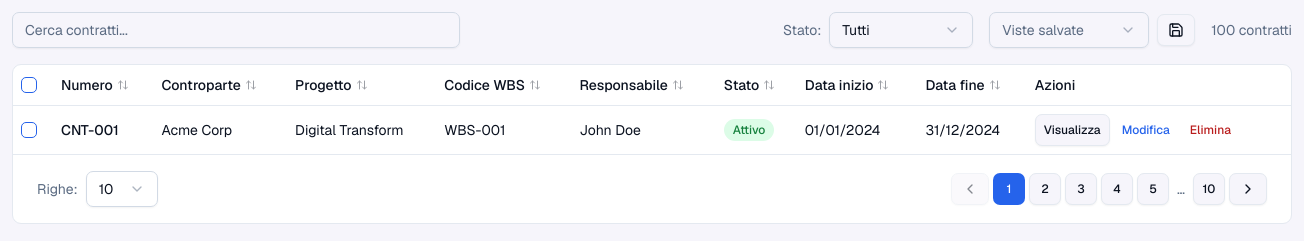
Test: ContractTable › shows near-end ellipsis pattern when on the last pages
Click the button named "Vai a pagina 10". click: (1209, 188)
box: top-left (1193, 172), bottom-right (1225, 204)
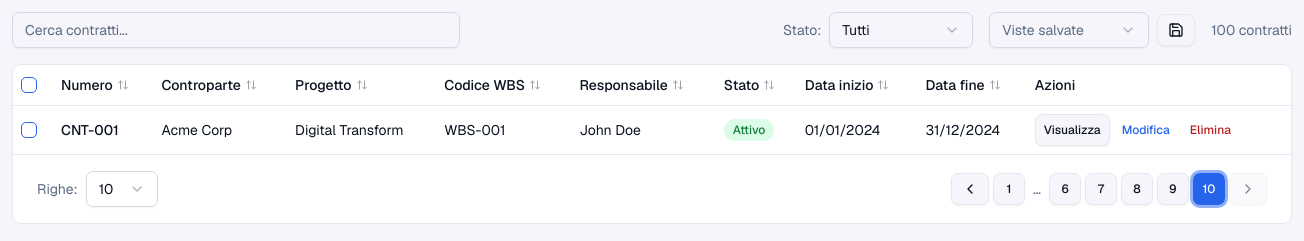
Expected: the text "…" is shown, top-left (1033, 180), bottom-right (1041, 198)
Result: the button named "Vai a pagina 7" is shown at top-left (1085, 172), bottom-right (1117, 204)
